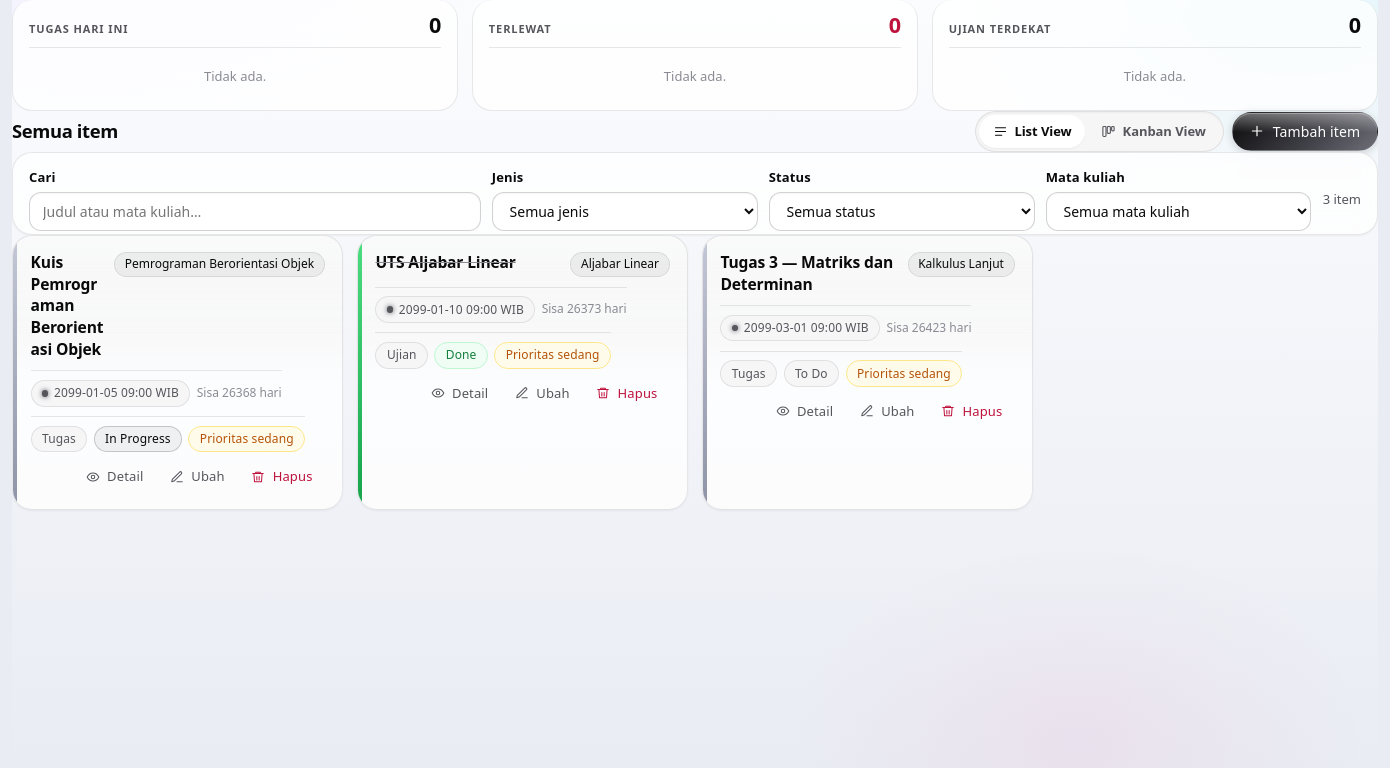
Test case: dual view modes › groups items into the three status columns in kanban view
Click the button "Kanban View" at (1154, 131), box [1088,115,1220,148]
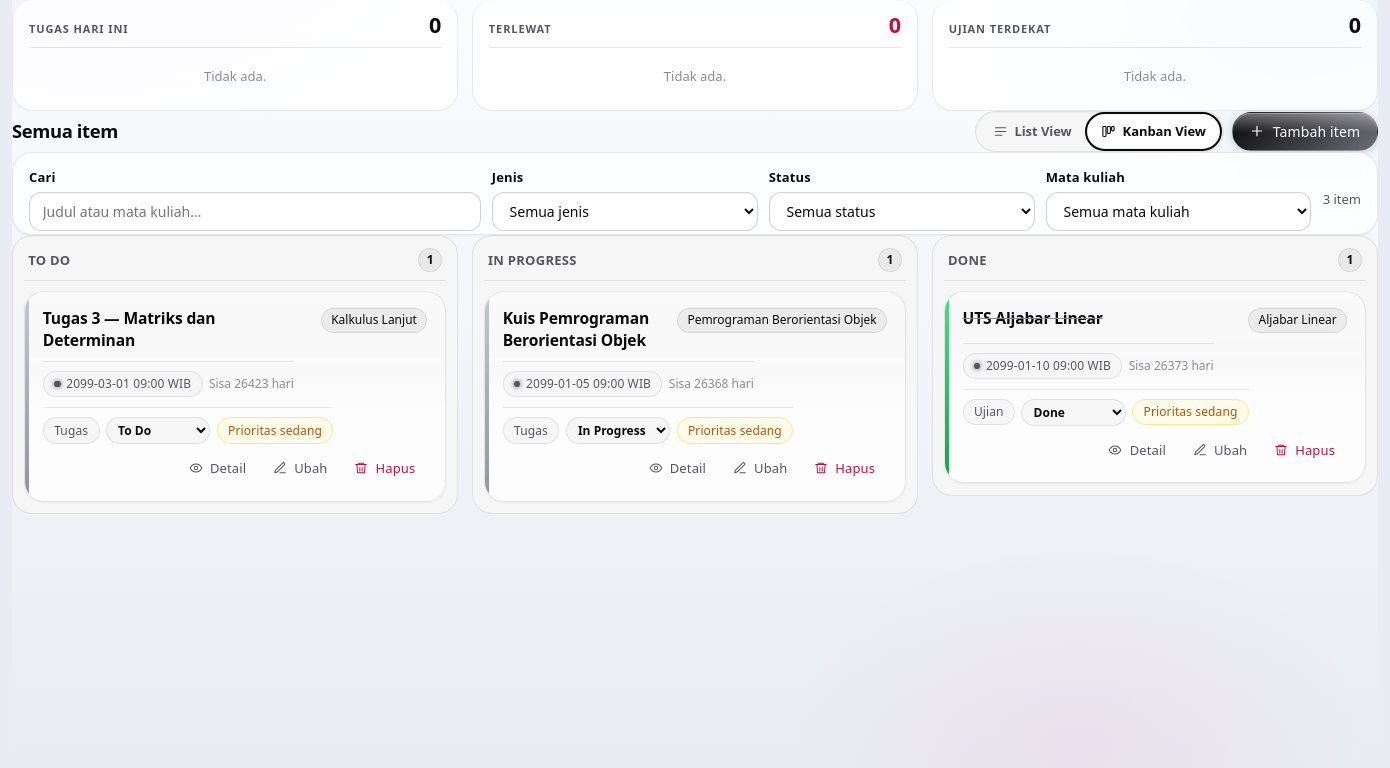
Now the heading "Tugas 3 — Matriks dan Determinan" is shown, box [43,307,216,351]
Now the heading "Kuis Pemrograman Berorientasi Objek" is shown, box [503,308,667,352]
Now the heading "UTS Aljabar Linear" is shown, box [962,308,1103,330]
